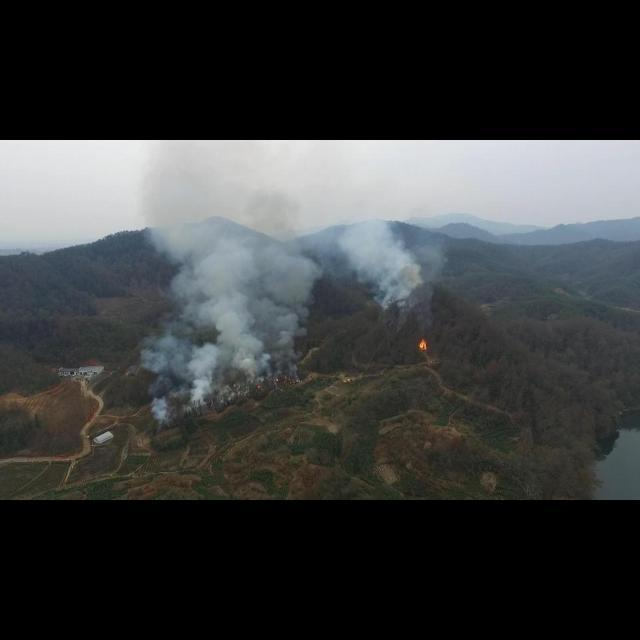Fire: (418, 337, 428, 351)
Smoke: (136, 141, 308, 425), (321, 136, 448, 327)
